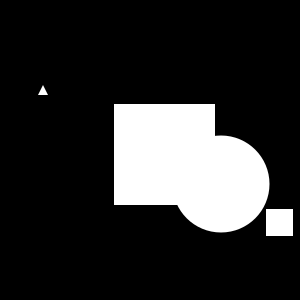circle: (114, 104, 215, 205), (266, 209, 293, 236)
rectangle: (173, 136, 270, 232)
triangle: (38, 85, 48, 95)
